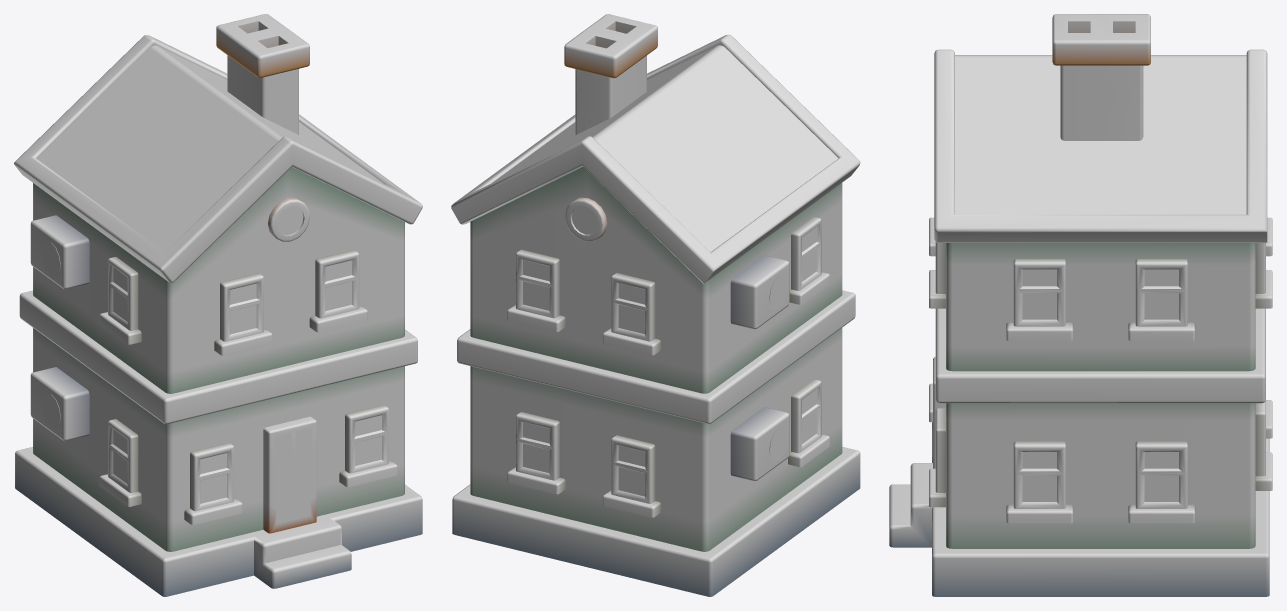
The model's file is NF_Bld_House 23.fbx.
3 views of the same model, side by side, from view 1: azimuth 30°, elevation 25°; view 2: azimuth 150°, elevation 25°; view 3: azimuth 270°, elevation 25° (orthographic). The views are drawn at different scales.
Visible parts, largest first — view 1: House_23; view 2: House_23; view 3: House_23.
Boxes of the visible parts, box(x1,y1,x2,y2) form: House_23: box(14, 14, 422, 596); House_23: box(451, 14, 860, 596); House_23: box(889, 14, 1272, 596).
Bounding box in the file's own units: 6.98 × 11.18 × 7.43.
